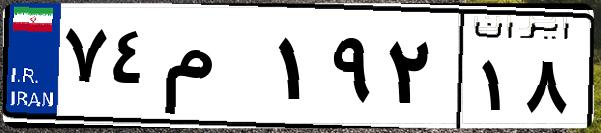1: (270, 28, 330, 110), (475, 38, 525, 113)
2: (385, 28, 445, 110)
4: (110, 28, 158, 98)
7: (57, 26, 110, 100)
8: (525, 38, 570, 115)
9: (330, 28, 385, 110)
م: (158, 20, 270, 120)
